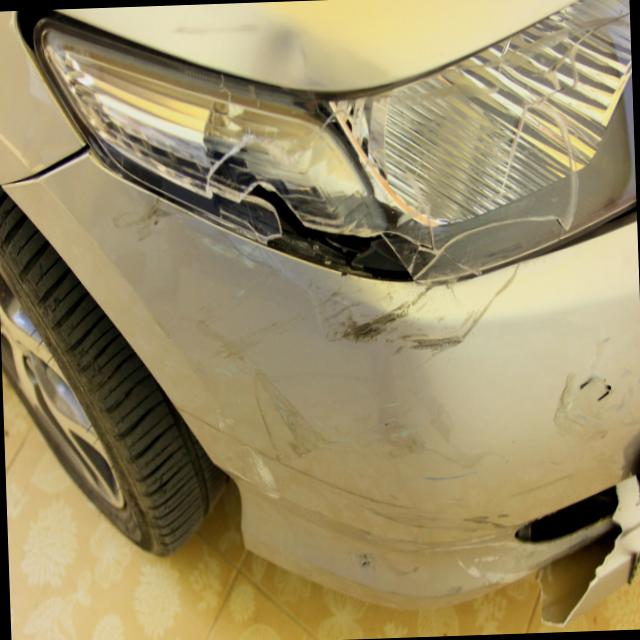Dechirure: (571, 366, 622, 421)
Phare abime: (412, 41, 639, 283), (200, 69, 416, 292)
Rayure: (164, 292, 520, 628), (319, 253, 506, 376), (109, 186, 177, 249)
